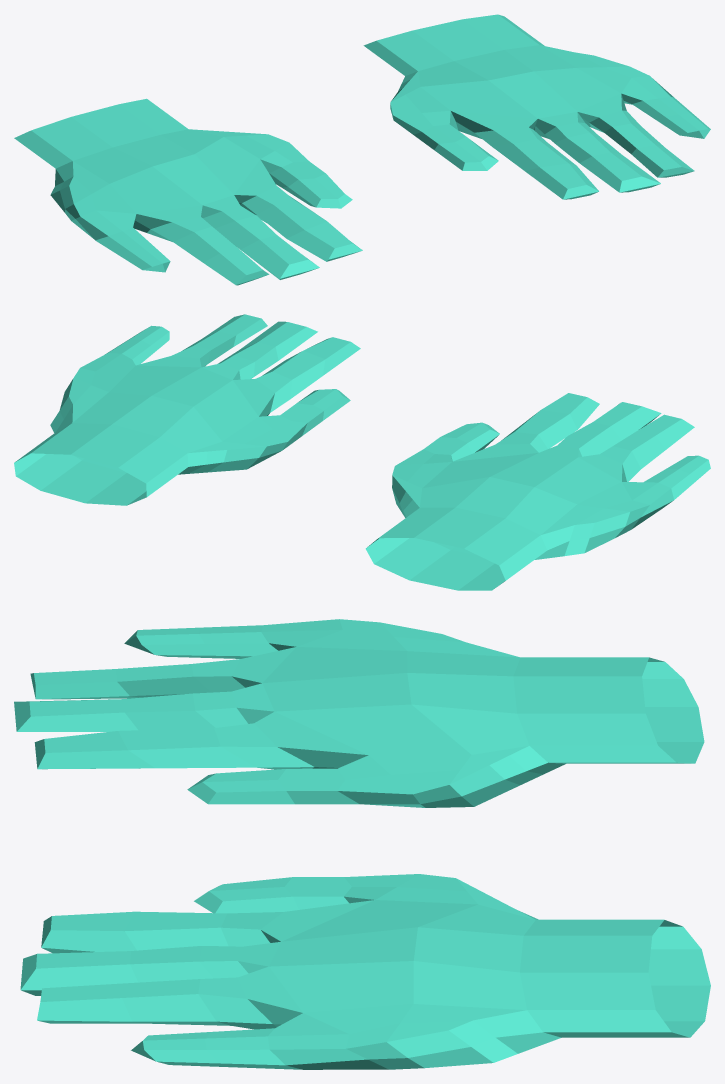
The model's file is surgicalgloves.fbx.
3 renders of one model, top to bottom at view 1: azimuth 30°, elevation 25°; view 2: azimuth 150°, elevation 25°; view 3: azimuth 270°, elevation 25°, orthographic. The views are drawn at different scales.
Parts seen in each view (by area): view 1: rightglove, leftglove; view 2: rightglove, leftglove; view 3: leftglove, rightglove.
Part boxes in pixels (x1=…): rightglove: x1=14, y1=98, x2=362, y2=285; leftglove: x1=363, y1=14, x2=710, y2=199; rightglove: x1=365, y1=393, x2=710, y2=590; leftglove: x1=14, y1=314, x2=360, y2=505; leftglove: x1=20, y1=874, x2=710, y2=1069; rightglove: x1=14, y1=619, x2=704, y2=807.
Size of the model in its own units: 117 by 6.05 by 79.1.
